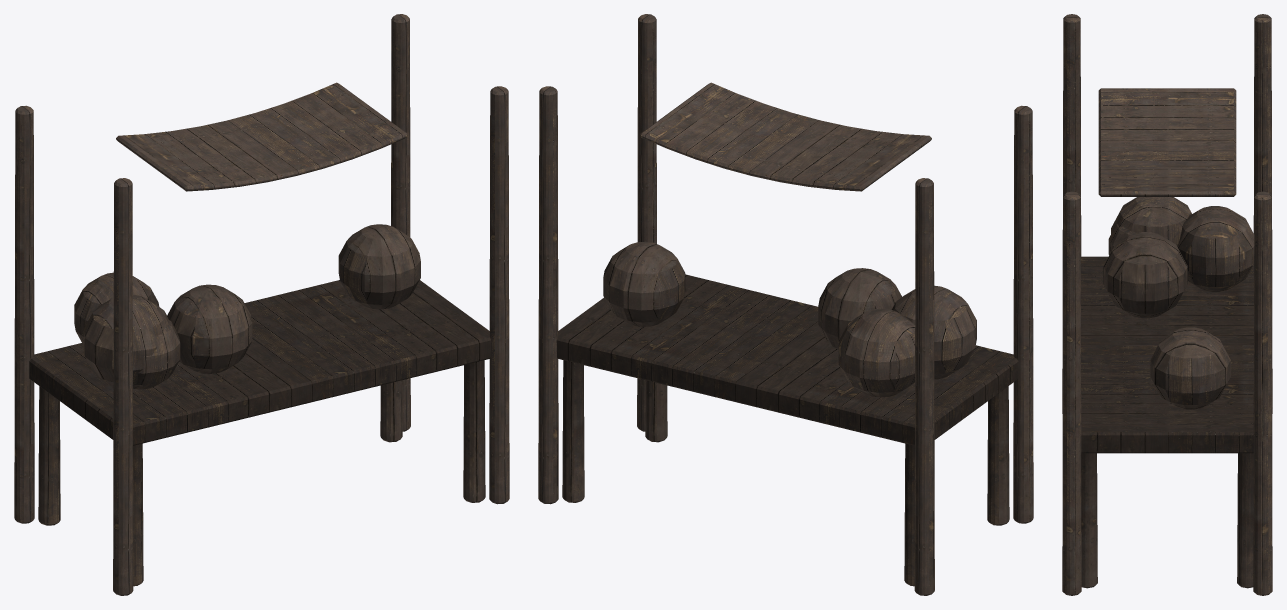
File: p_stall.glb
3 renders of one model, left to right at view 1: azimuth 30°, elevation 25°; view 2: azimuth 150°, elevation 25°; view 3: azimuth 270°, elevation 25°, orthographic. The views are drawn at different scales.
Parts seen in each view (by area): view 1: stall; view 2: stall; view 3: stall.
Boxes of the visible parts, x1=… form: stall: x1=14, y1=14, x2=509, y2=595; stall: x1=538, y1=14, x2=1033, y2=595; stall: x1=1062, y1=14, x2=1272, y2=595.
Size of the model in its own units: 2.3 by 2.3 by 1.1.
1 material, 1 textured.
